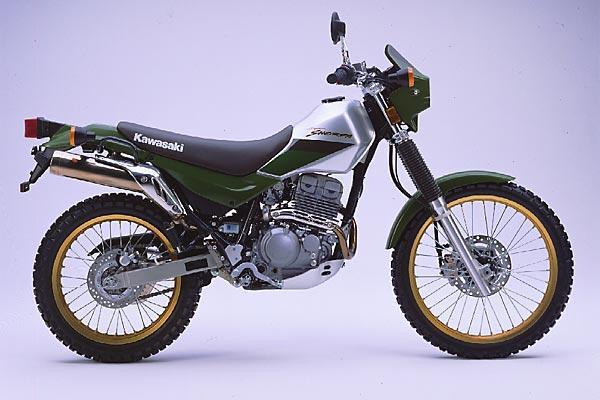motorcycle: (1, 13, 600, 373)
